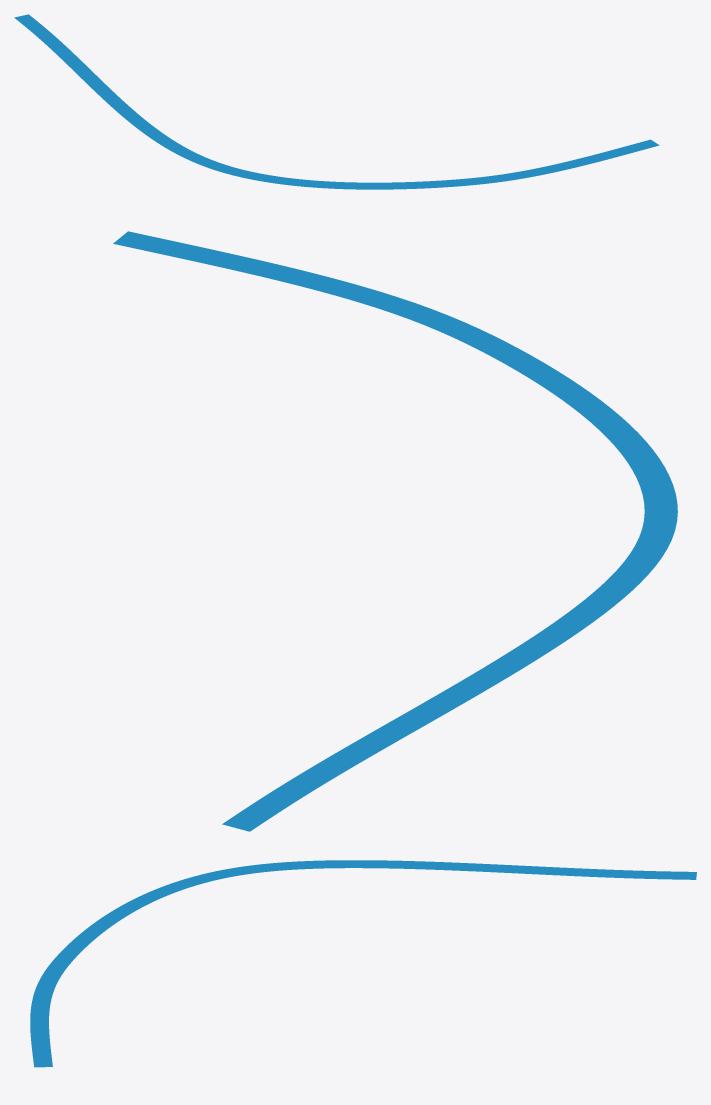
Rendered from guide.glb.
The picture shows the model from 3 angles, top to bottom: view 1: azimuth 30°, elevation 25°; view 2: azimuth 150°, elevation 25°; view 3: azimuth 270°, elevation 25°; orthographic projection. The views are drawn at different scales.
Parts seen in each view (by area): view 1: static; view 2: static; view 3: static.
Part boxes in pixels (<box>): static: <box>14,14,659,189</box>; static: <box>113,231,677,831</box>; static: <box>30,860,696,1067</box>.
Bounding box in the file's own units: 9.27 × 0 × 11.6.
